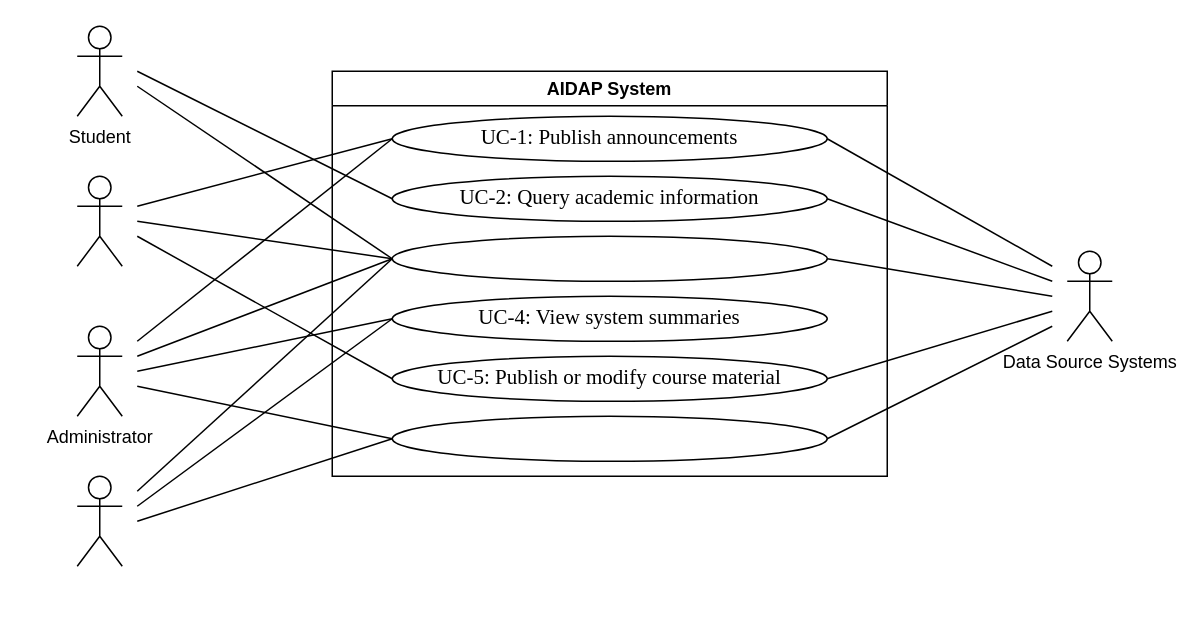
Image size: 1203x624. Some labels were removed from this diagram. Each missing label, with the box of its shape:
Lecturer: (76, 175, 122, 266)
System Maintainer: (76, 475, 122, 566)
UC-3: Log in: (391, 235, 827, 281)
UC-6: Create and use backup: (391, 415, 827, 461)
